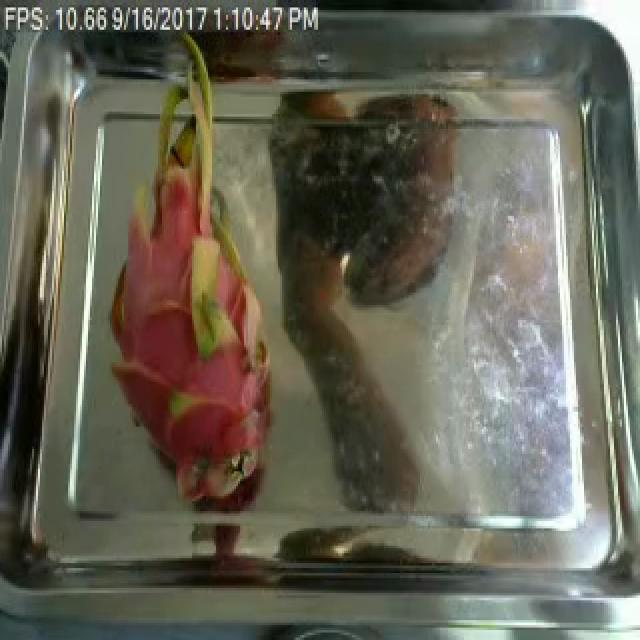fruit: (86, 42, 286, 491)
